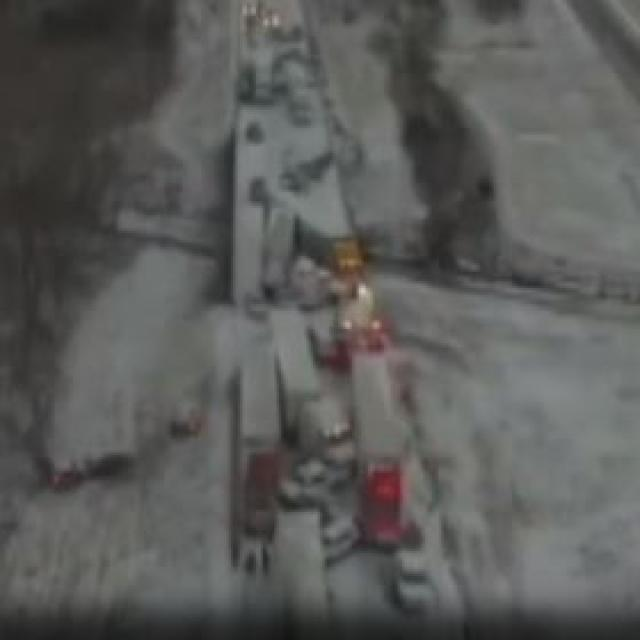traffic_incident: (252, 192, 393, 530)
